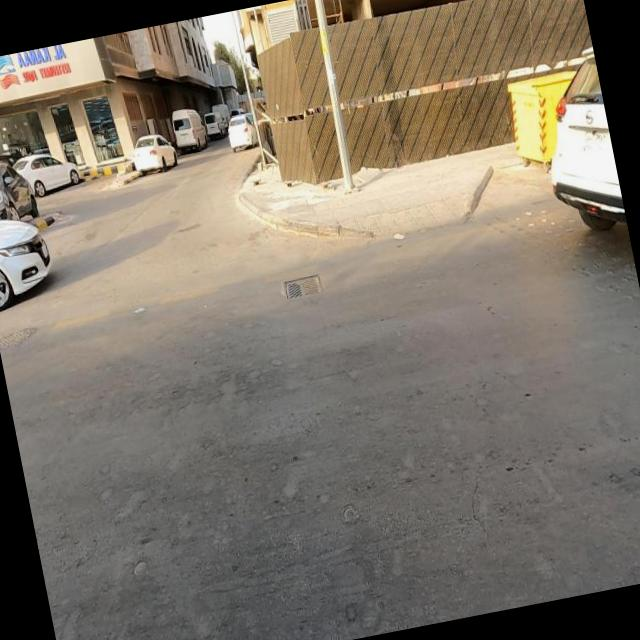debris: (368, 210, 429, 269), (110, 280, 170, 338)
